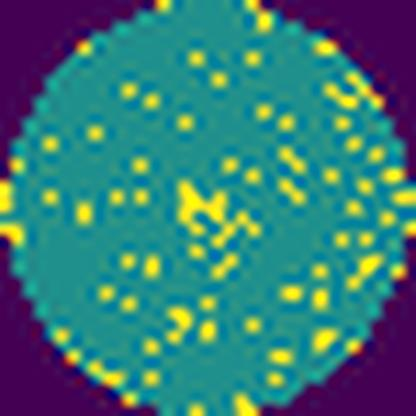Center: (172, 178, 271, 249)
